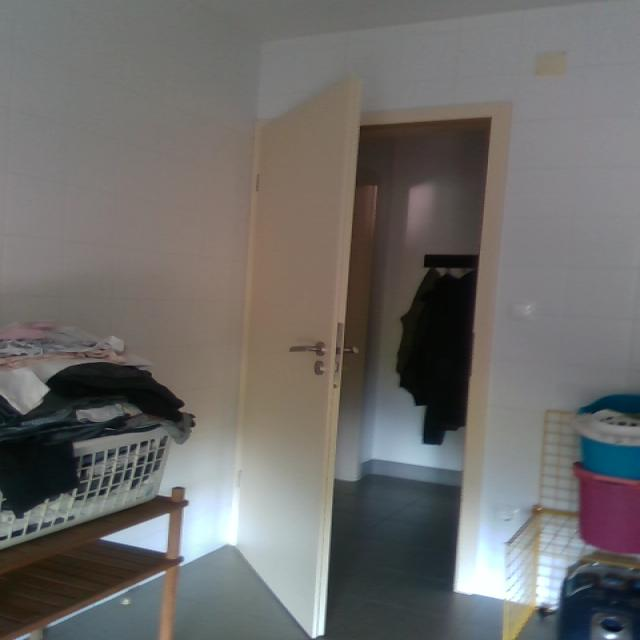semi-open: (236, 70, 519, 639)
